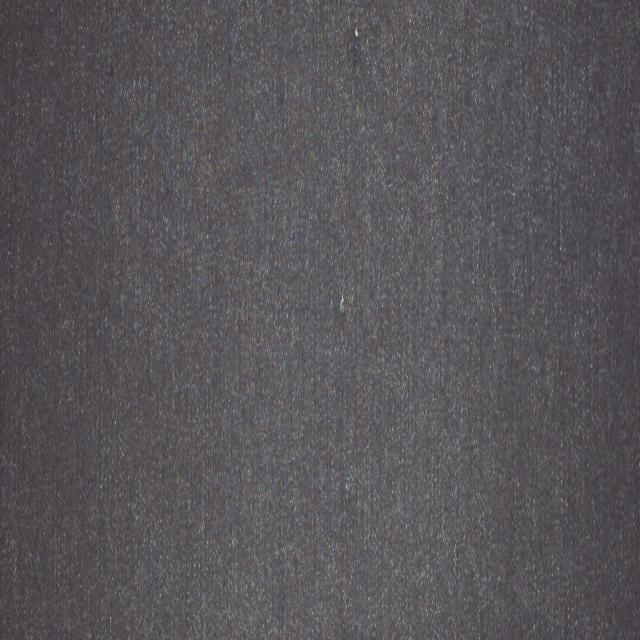pulled_or_thick_thread: (337, 292, 347, 321)
